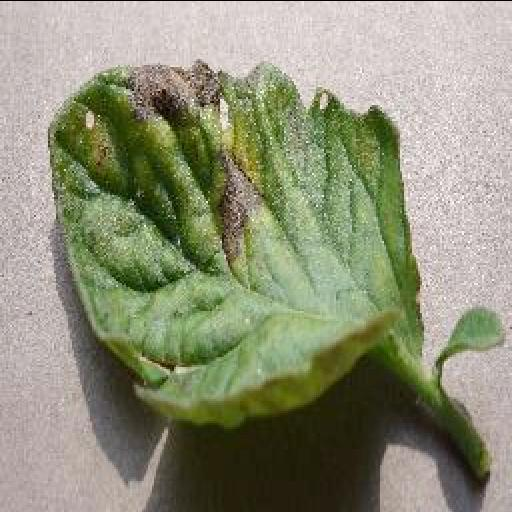disease_tomato: (44, 56, 422, 420)
